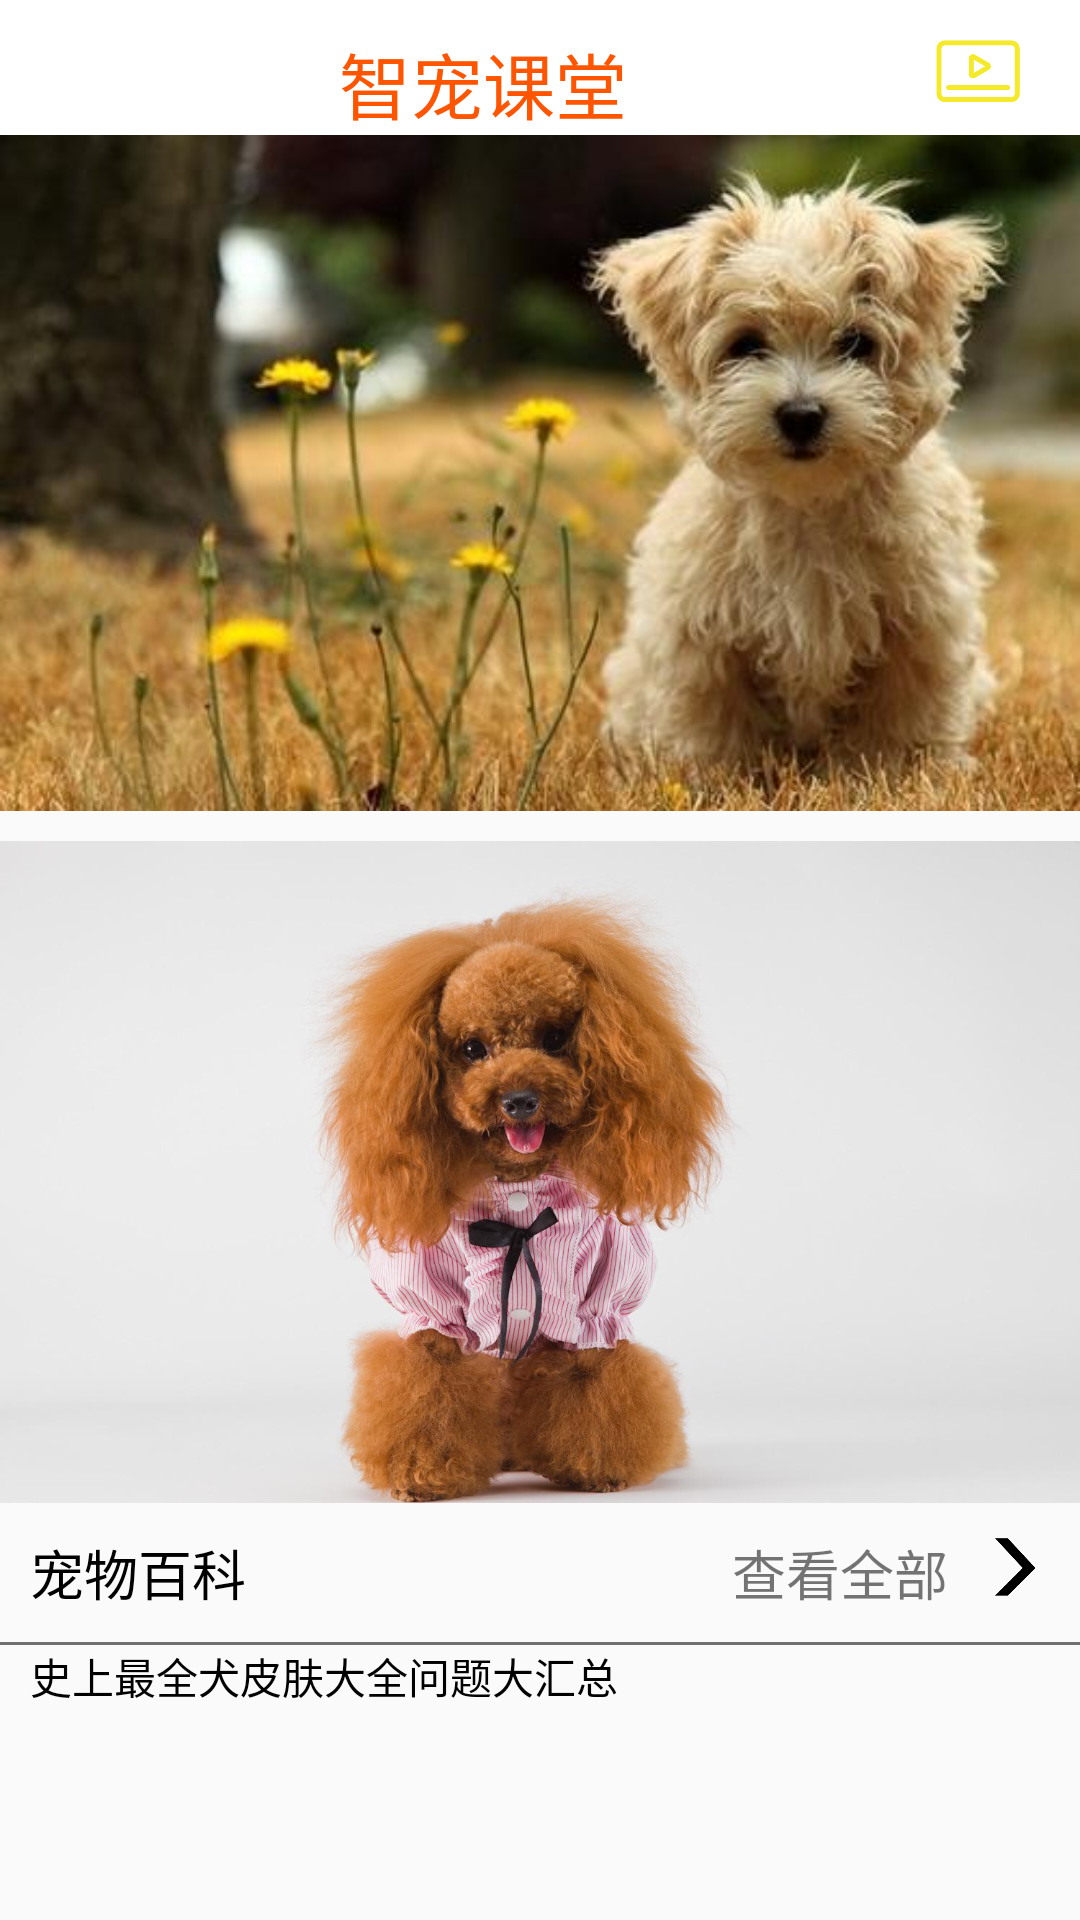

Icons on this 1080px×1920px Android screen, each with its box as (x1, y1, x2, y2):
right: (995, 1538, 1035, 1596)
